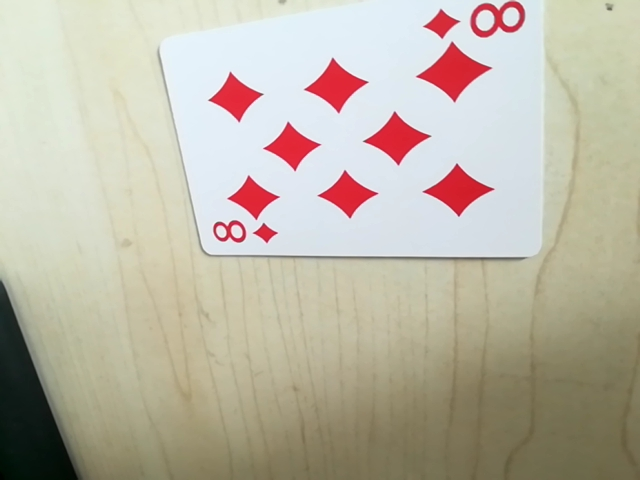fk 8: (423, 0, 530, 46), (208, 216, 282, 254)
